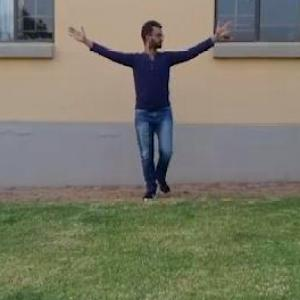takeoff: (80, 6, 259, 208)
